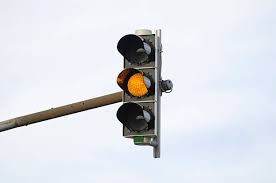amber: (117, 32, 161, 145), (122, 35, 155, 136), (124, 38, 151, 131)
